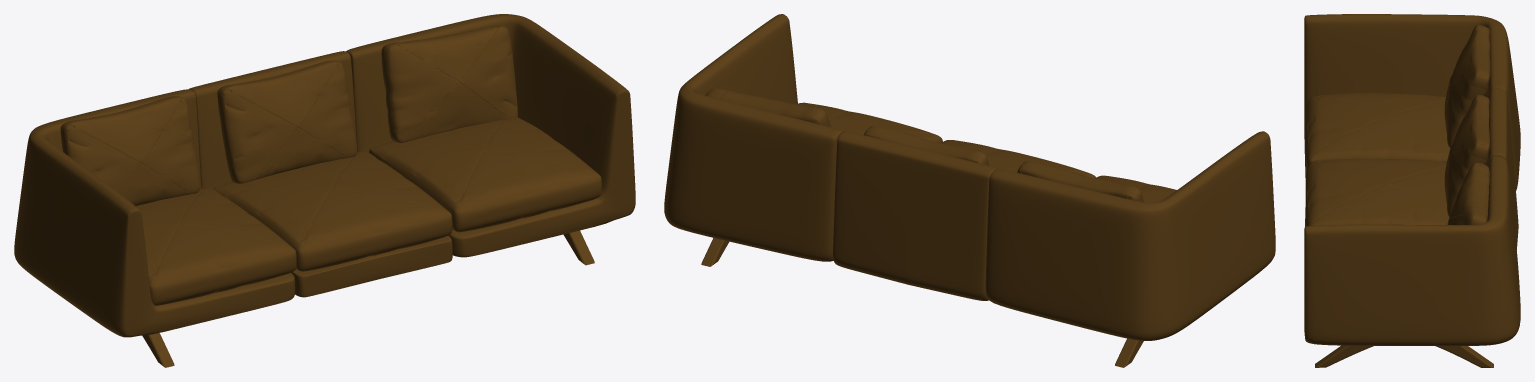
The model's file is 3DSTYLISH-fsd000.obj.
3 views of the same model, side by side, from view 1: azimuth 30°, elevation 25°; view 2: azimuth 150°, elevation 25°; view 3: azimuth 270°, elevation 25° (orthographic). The views are drawn at different scales.
Visible parts, largest first — view 1: 9, 11, 5, 6, 7, 8, 4, 3, 10, 13, 12; view 2: 9, 11, 10, 3, 8, 6, 7, 5, 4; view 3: 11, 9, 4, 5, 3, 7, 10, 8, 12.
Part boxes in pixels (x1,y1,x2,y2): 9: (14,89,295,337); 11: (346,14,635,257); 5: (213,152,452,271); 6: (369,117,601,232); 7: (217,60,357,183); 8: (381,25,517,142); 4: (136,188,296,305); 3: (60,96,200,205); 10: (189,51,452,297); 13: (142,333,174,367); 12: (563,230,594,265); 9: (985,131,1275,340); 11: (664,14,842,261); 10: (833,131,996,300); 3: (1017,161,1143,201); 8: (705,88,831,127); 6: (798,102,942,142); 7: (864,126,989,165); 5: (941,140,1095,178); 4: (1096,175,1176,202); 11: (1304,156,1520,345); 9: (1304,14,1520,190); 4: (1305,93,1450,168); 5: (1305,158,1449,226); 3: (1444,25,1490,147); 7: (1444,94,1489,216); 10: (1305,87,1518,249); 8: (1447,162,1489,224); 12: (1315,345,1493,367).
Bounding box in the file's own units: 85.75 × 27.85 × 34.72.
